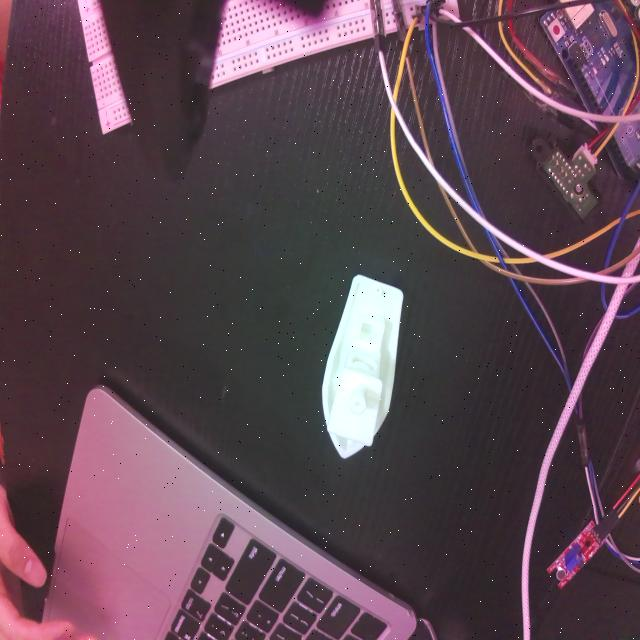ship: (322, 274, 405, 460)
